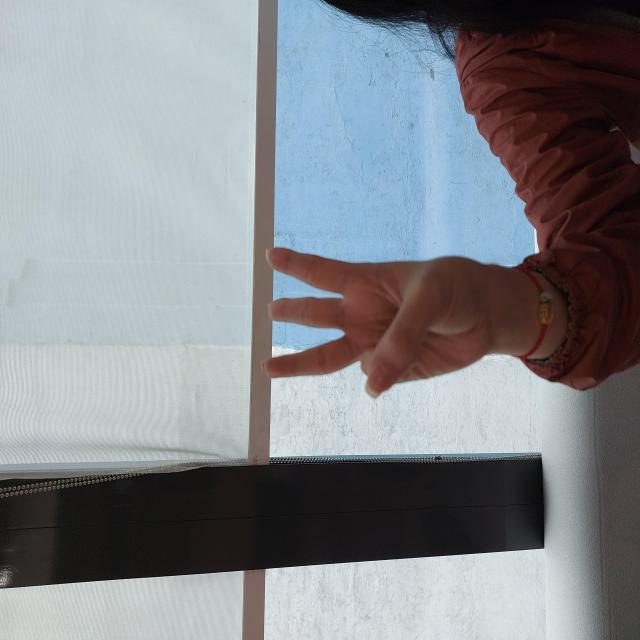W: (241, 259, 399, 495)
